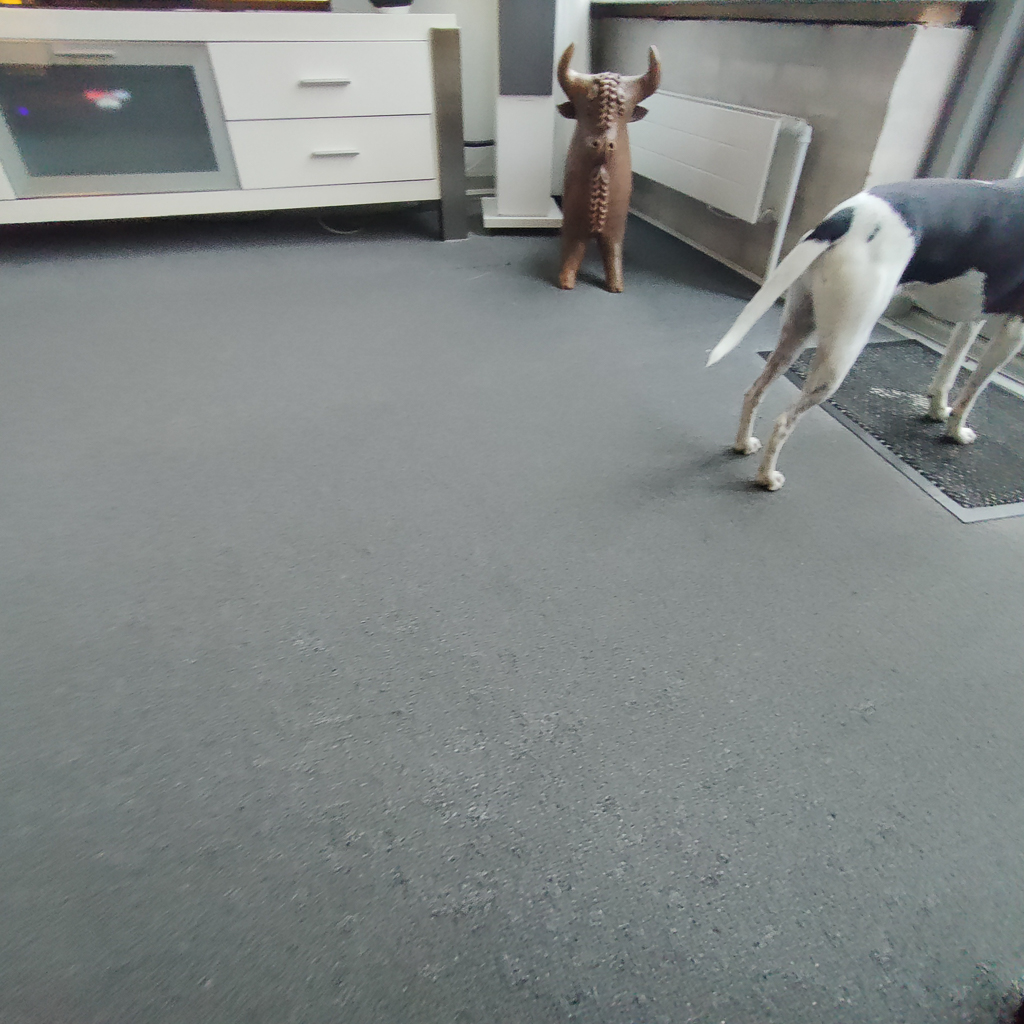Cattle: (526, 25, 694, 316)
Dog: (687, 139, 1024, 528)
